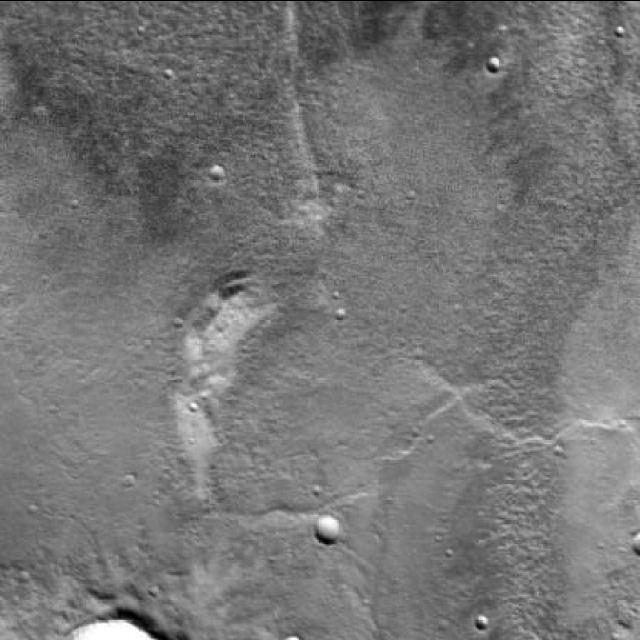crater: (313, 517, 339, 545), (474, 612, 490, 630), (209, 164, 225, 181), (278, 631, 298, 640)
